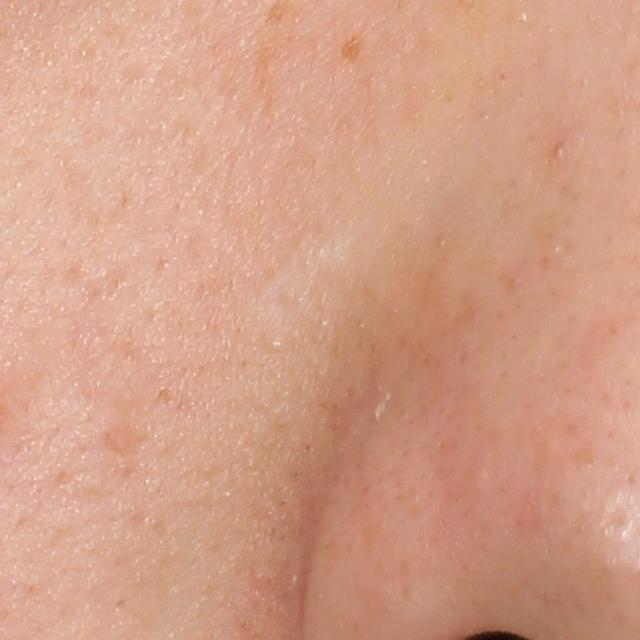comedo: (263, 333, 290, 353), (547, 140, 568, 163)
melasma: (336, 32, 363, 64)
